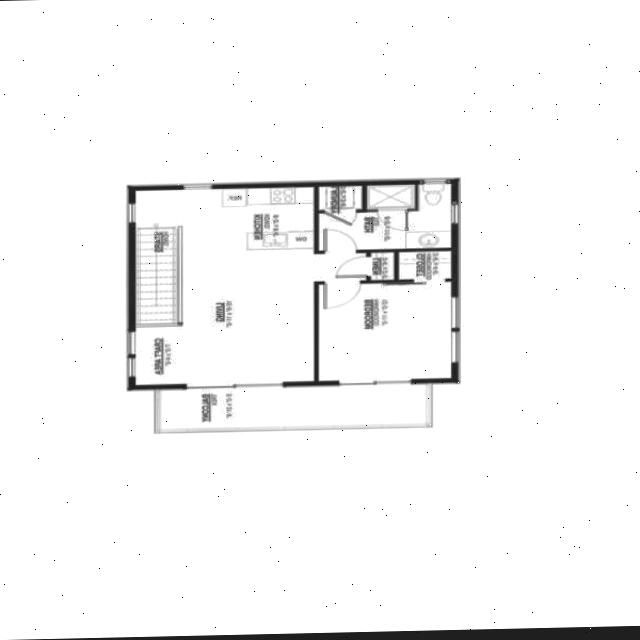room: (137, 187, 313, 384), (318, 281, 453, 379), (160, 384, 427, 428), (318, 183, 453, 249), (398, 251, 451, 278), (316, 253, 367, 280), (371, 252, 393, 279)
